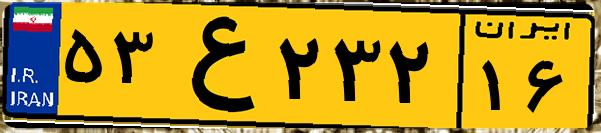1: (475, 38, 525, 113)
2: (270, 28, 330, 110), (385, 28, 445, 110)
3: (330, 28, 385, 110), (110, 28, 158, 98)
5: (57, 26, 110, 100)
6: (525, 38, 570, 115)
ع: (158, 12, 270, 120)
